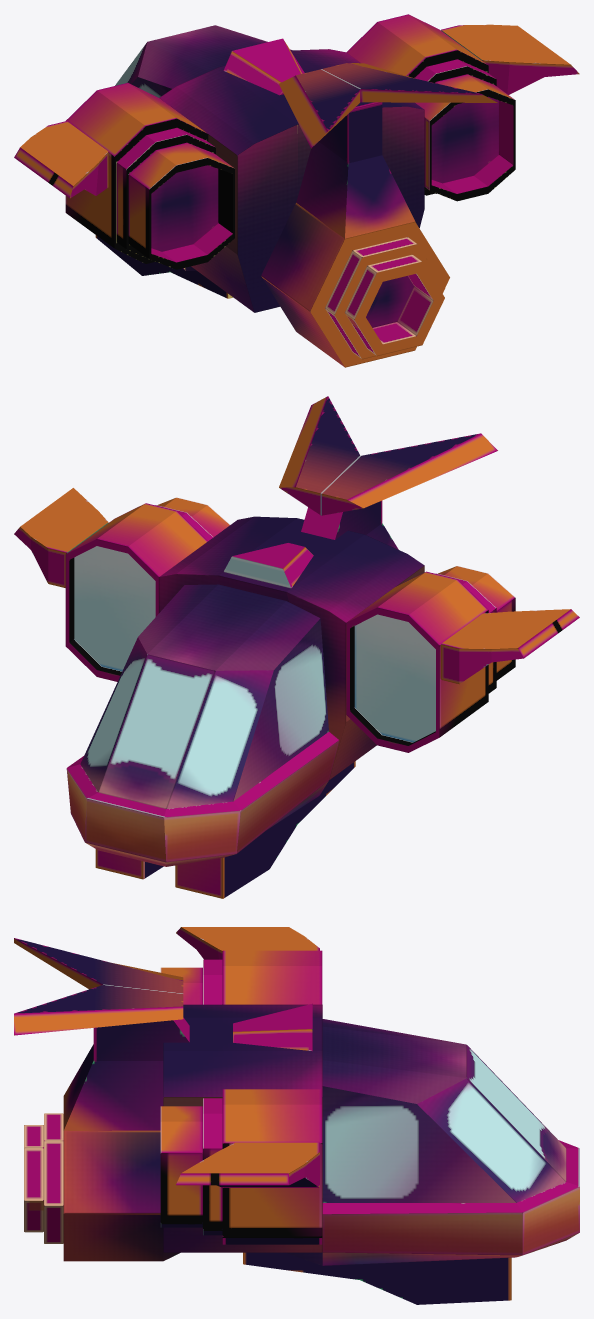
File: SpaceShip.fbx
3 renders of one model, top to bottom at view 1: azimuth 30°, elevation 25°; view 2: azimuth 150°, elevation 25°; view 3: azimuth 270°, elevation 25°, orthographic.
Parts seen in each view (by area): view 1: cuboid_1, cuboid_7, cylinder, cuboid_9, cuboid_3, cuboid_4, cuboid, cuboid_8, cuboid_5, cuboid_6, cuboid_2; view 2: cuboid, cuboid_7, cuboid_1, cuboid_9, cuboid_4, cuboid_2, cuboid_5, cuboid_8, cuboid_6, cuboid_3; view 3: cuboid, cuboid_9, cylinder, cuboid_1, cuboid_3, cuboid_4, cuboid_2, cuboid_7, cuboid_8, cuboid_5, cuboid_6.
Part boxes in pixels (left/top/right/bottom): cuboid_1: left=159, top=49, right=424, bottom=312; cuboid_7: left=65, top=83, right=234, bottom=269; cylinder: left=261, top=203, right=449, bottom=367; cuboid_9: left=346, top=14, right=515, bottom=201; cuboid_3: left=296, top=102, right=415, bottom=238; cuboid_4: left=279, top=63, right=497, bottom=148; cuboid: left=115, top=25, right=291, bottom=270; cuboid_8: left=441, top=24, right=579, bottom=94; cuboid_5: left=14, top=121, right=108, bottom=198; cuboid_6: left=223, top=38, right=304, bottom=95; cuboid_2: left=95, top=235, right=232, bottom=298; cuboid: left=66, top=584, right=346, bottom=866; cuboid_7: left=346, top=566, right=515, bottom=752; cuboid_1: left=159, top=516, right=424, bottom=779; cuboid_9: left=65, top=497, right=229, bottom=681; cuboid_4: left=279, top=396, right=497, bottom=515; cuboid_2: left=95, top=761, right=355, bottom=898; cuboid_5: left=440, top=609, right=579, bottom=684; cuboid_8: left=14, top=488, right=108, bottom=587; cuboid_6: left=224, top=543, right=313, bottom=588; cuboid_3: left=301, top=500, right=398, bottom=549; cuboid: left=286, top=1019, right=579, bottom=1265; cuboid_9: left=160, top=1089, right=322, bottom=1244; cylinder: left=24, top=1113, right=180, bottom=1261; cuboid_1: left=163, top=1004, right=322, bottom=1252; cuboid_3: left=63, top=1017, right=189, bottom=1131; cuboid_4: left=14, top=938, right=183, bottom=1035; cuboid_2: left=243, top=1252, right=511, bottom=1304; cuboid_7: left=160, top=950, right=322, bottom=1004; cuboid_8: left=176, top=1142, right=319, bottom=1187; cuboid_5: left=176, top=927, right=319, bottom=959; cuboid_6: left=233, top=1003, right=312, bottom=1051.
Size of the model in its own units: 375 by 206 by 355.
3 materials, 3 textured.
